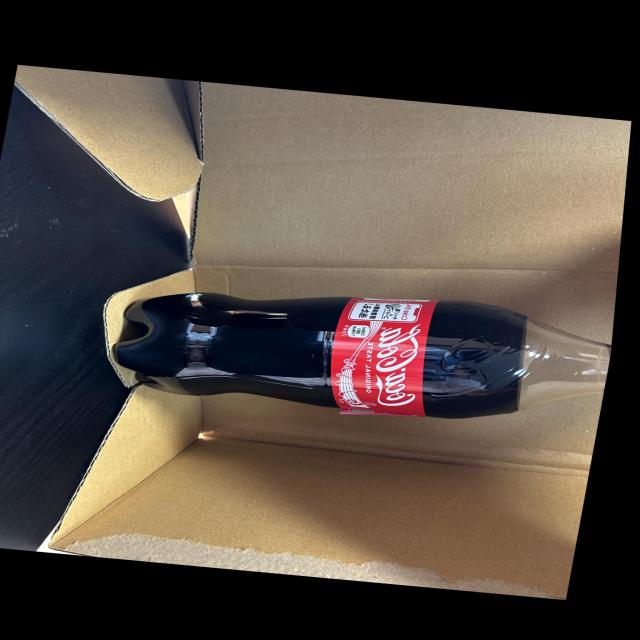high: (115, 293, 610, 418)
